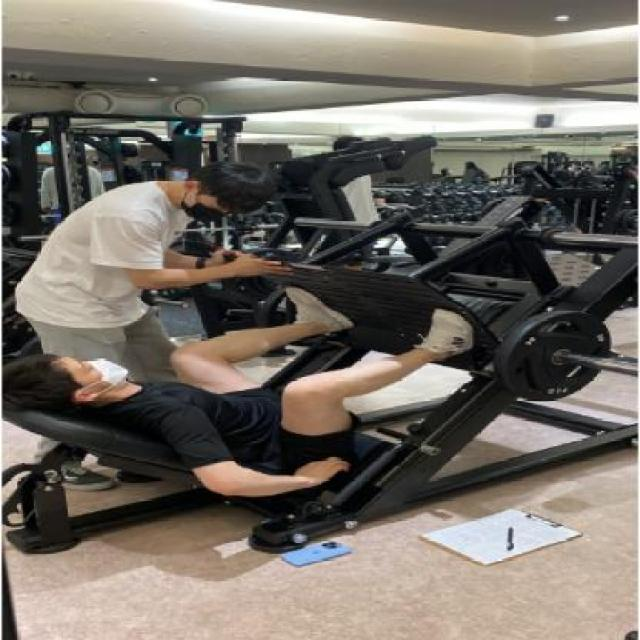leg press: (15, 106, 640, 574)
